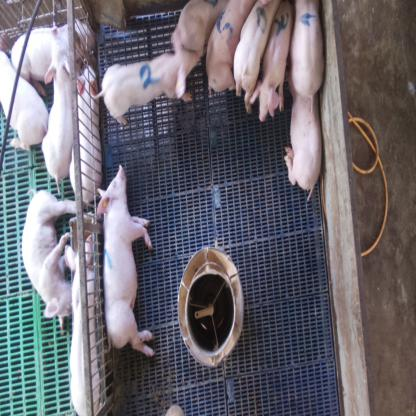1: (297, 12, 318, 26)
2: (138, 65, 160, 90)
5: (216, 9, 233, 43)
7: (274, 12, 289, 37)
N-A: (256, 5, 267, 34)
